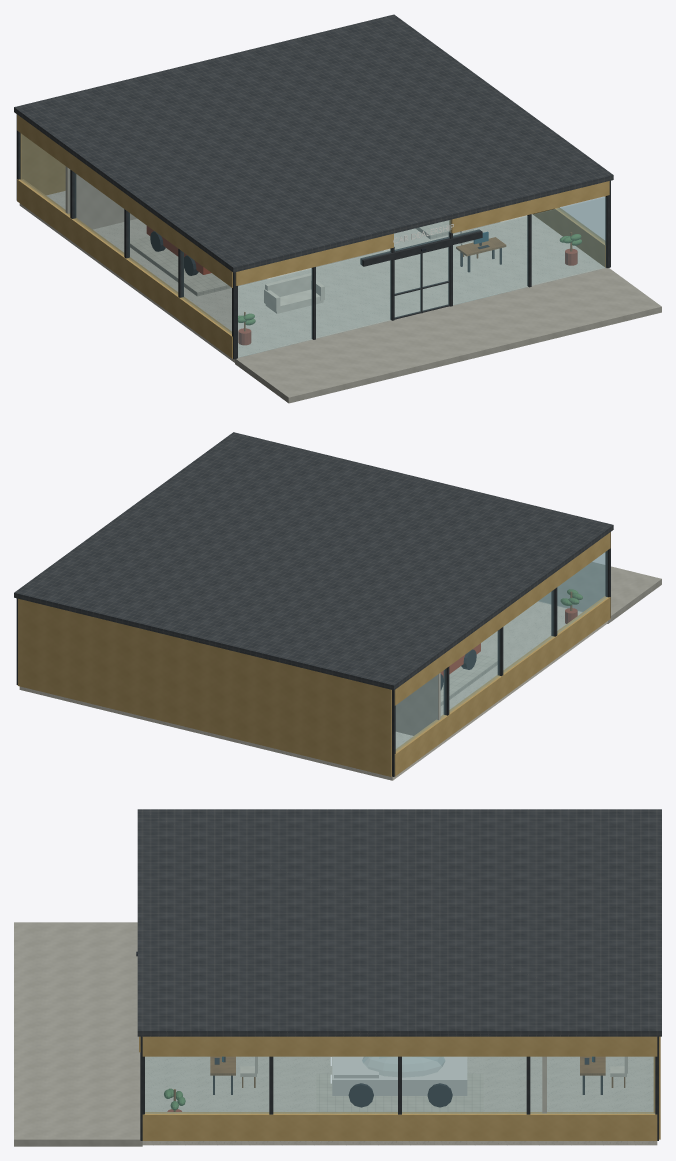
Rendered from 14_Car_Dealership_LOD1.glb.
3 renders of one model, top to bottom at view 1: azimuth 30°, elevation 25°; view 2: azimuth 150°, elevation 25°; view 3: azimuth 270°, elevation 25°, orthographic. The views are drawn at different scales.
Visible parts, largest first — view 1: Roof, Approach, Floor, Front glazing, Front glazing.001, Side glazing, Side base wall, Side upper wall, Front band.001, Front band, Internal partition, Rear wall (+9 smaller); view 2: Roof, Rear wall, Side glazing, Side base wall, Floor, Side upper wall, Approach, Internal partition, Front glazing, Display plinth; view 3: Roof, Side glazing.001, Approach, Floor, Side base wall.001, Side upper wall.001, Car body.002, Display plinth.002, Bonnet.002.
Part boxes in pixels (x1,y1,x2,y2): Roof: (14,14,613,272); Approach: (235,268,661,403); Floor: (19,191,605,362); Front glazing: (238,249,391,357); Front glazing.001: (453,197,606,304); Side glazing: (20,133,231,333); Side base wall: (17,179,232,358); Side upper wall: (17,114,232,287); Front band.001: (449,181,609,233); Front band: (235,233,393,285); Internal partition: (65,166,136,229); Rear wall: (20,133,65,195); Roof: (14,432,613,690); Rear wall: (18,598,391,776); Side glazing: (396,551,607,751); Side base wall: (394,596,610,776); Floor: (19,601,607,780); Side upper wall: (394,532,610,705); Approach: (539,562,661,623); Internal partition: (395,673,440,735); Front glazing: (539,553,604,611); Display plinth: (440,653,497,705); Roof: (137,809,661,1036); Side glazing.001: (145,1057,654,1113); Approach: (14,922,142,1146); Floor: (142,1056,657,1145); Side base wall.001: (142,1112,657,1140); Side upper wall.001: (142,1036,657,1056); Car body.002: (332,1056,467,1095); Display plinth.002: (316,1073,483,1111); Bonnet.002: (334,1056,378,1078).
Size of the model in its own units: 16.3 by 4.04 by 20.15.
Materials: 18 (10 with a texture image).
